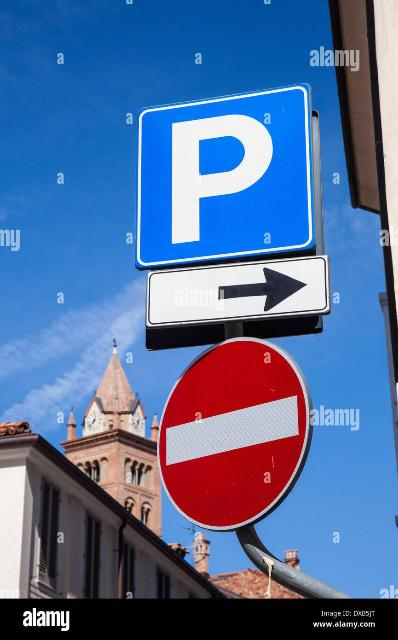B2: (156, 336, 314, 532)
